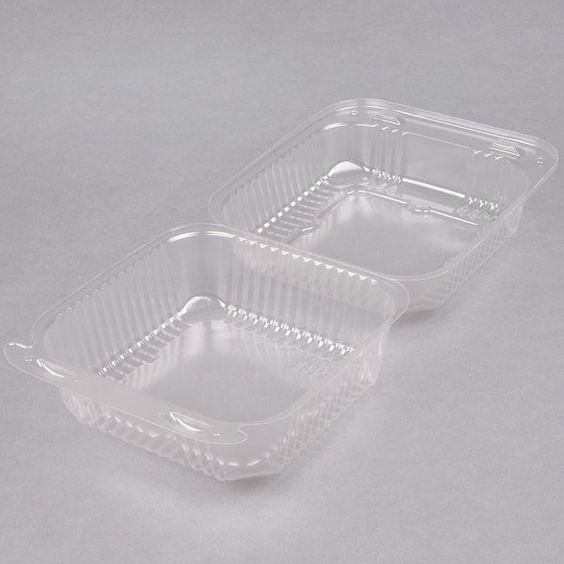PS: (10, 94, 559, 484)
